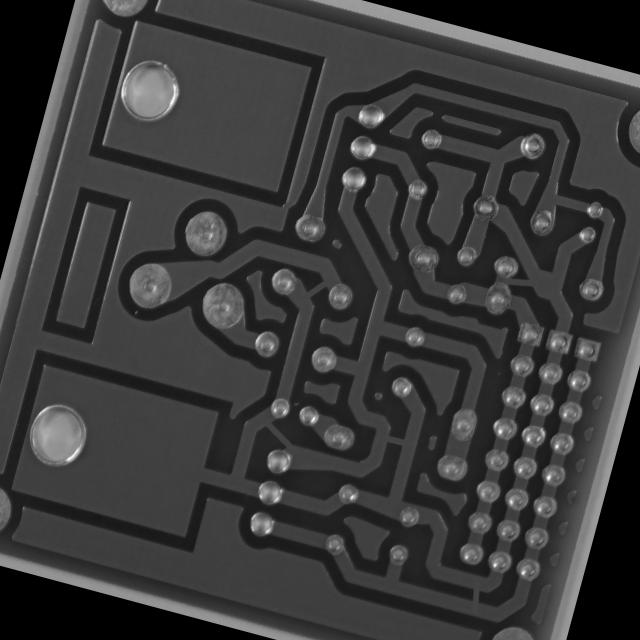short: (484, 249, 553, 311), (247, 405, 310, 468), (290, 263, 342, 316), (366, 417, 423, 465), (454, 568, 496, 623)
